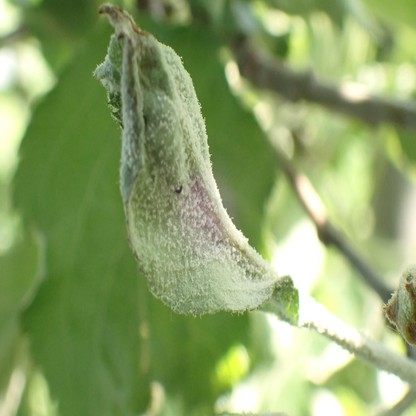powdery_mildew: (95, 2, 299, 317), (384, 265, 416, 346)
